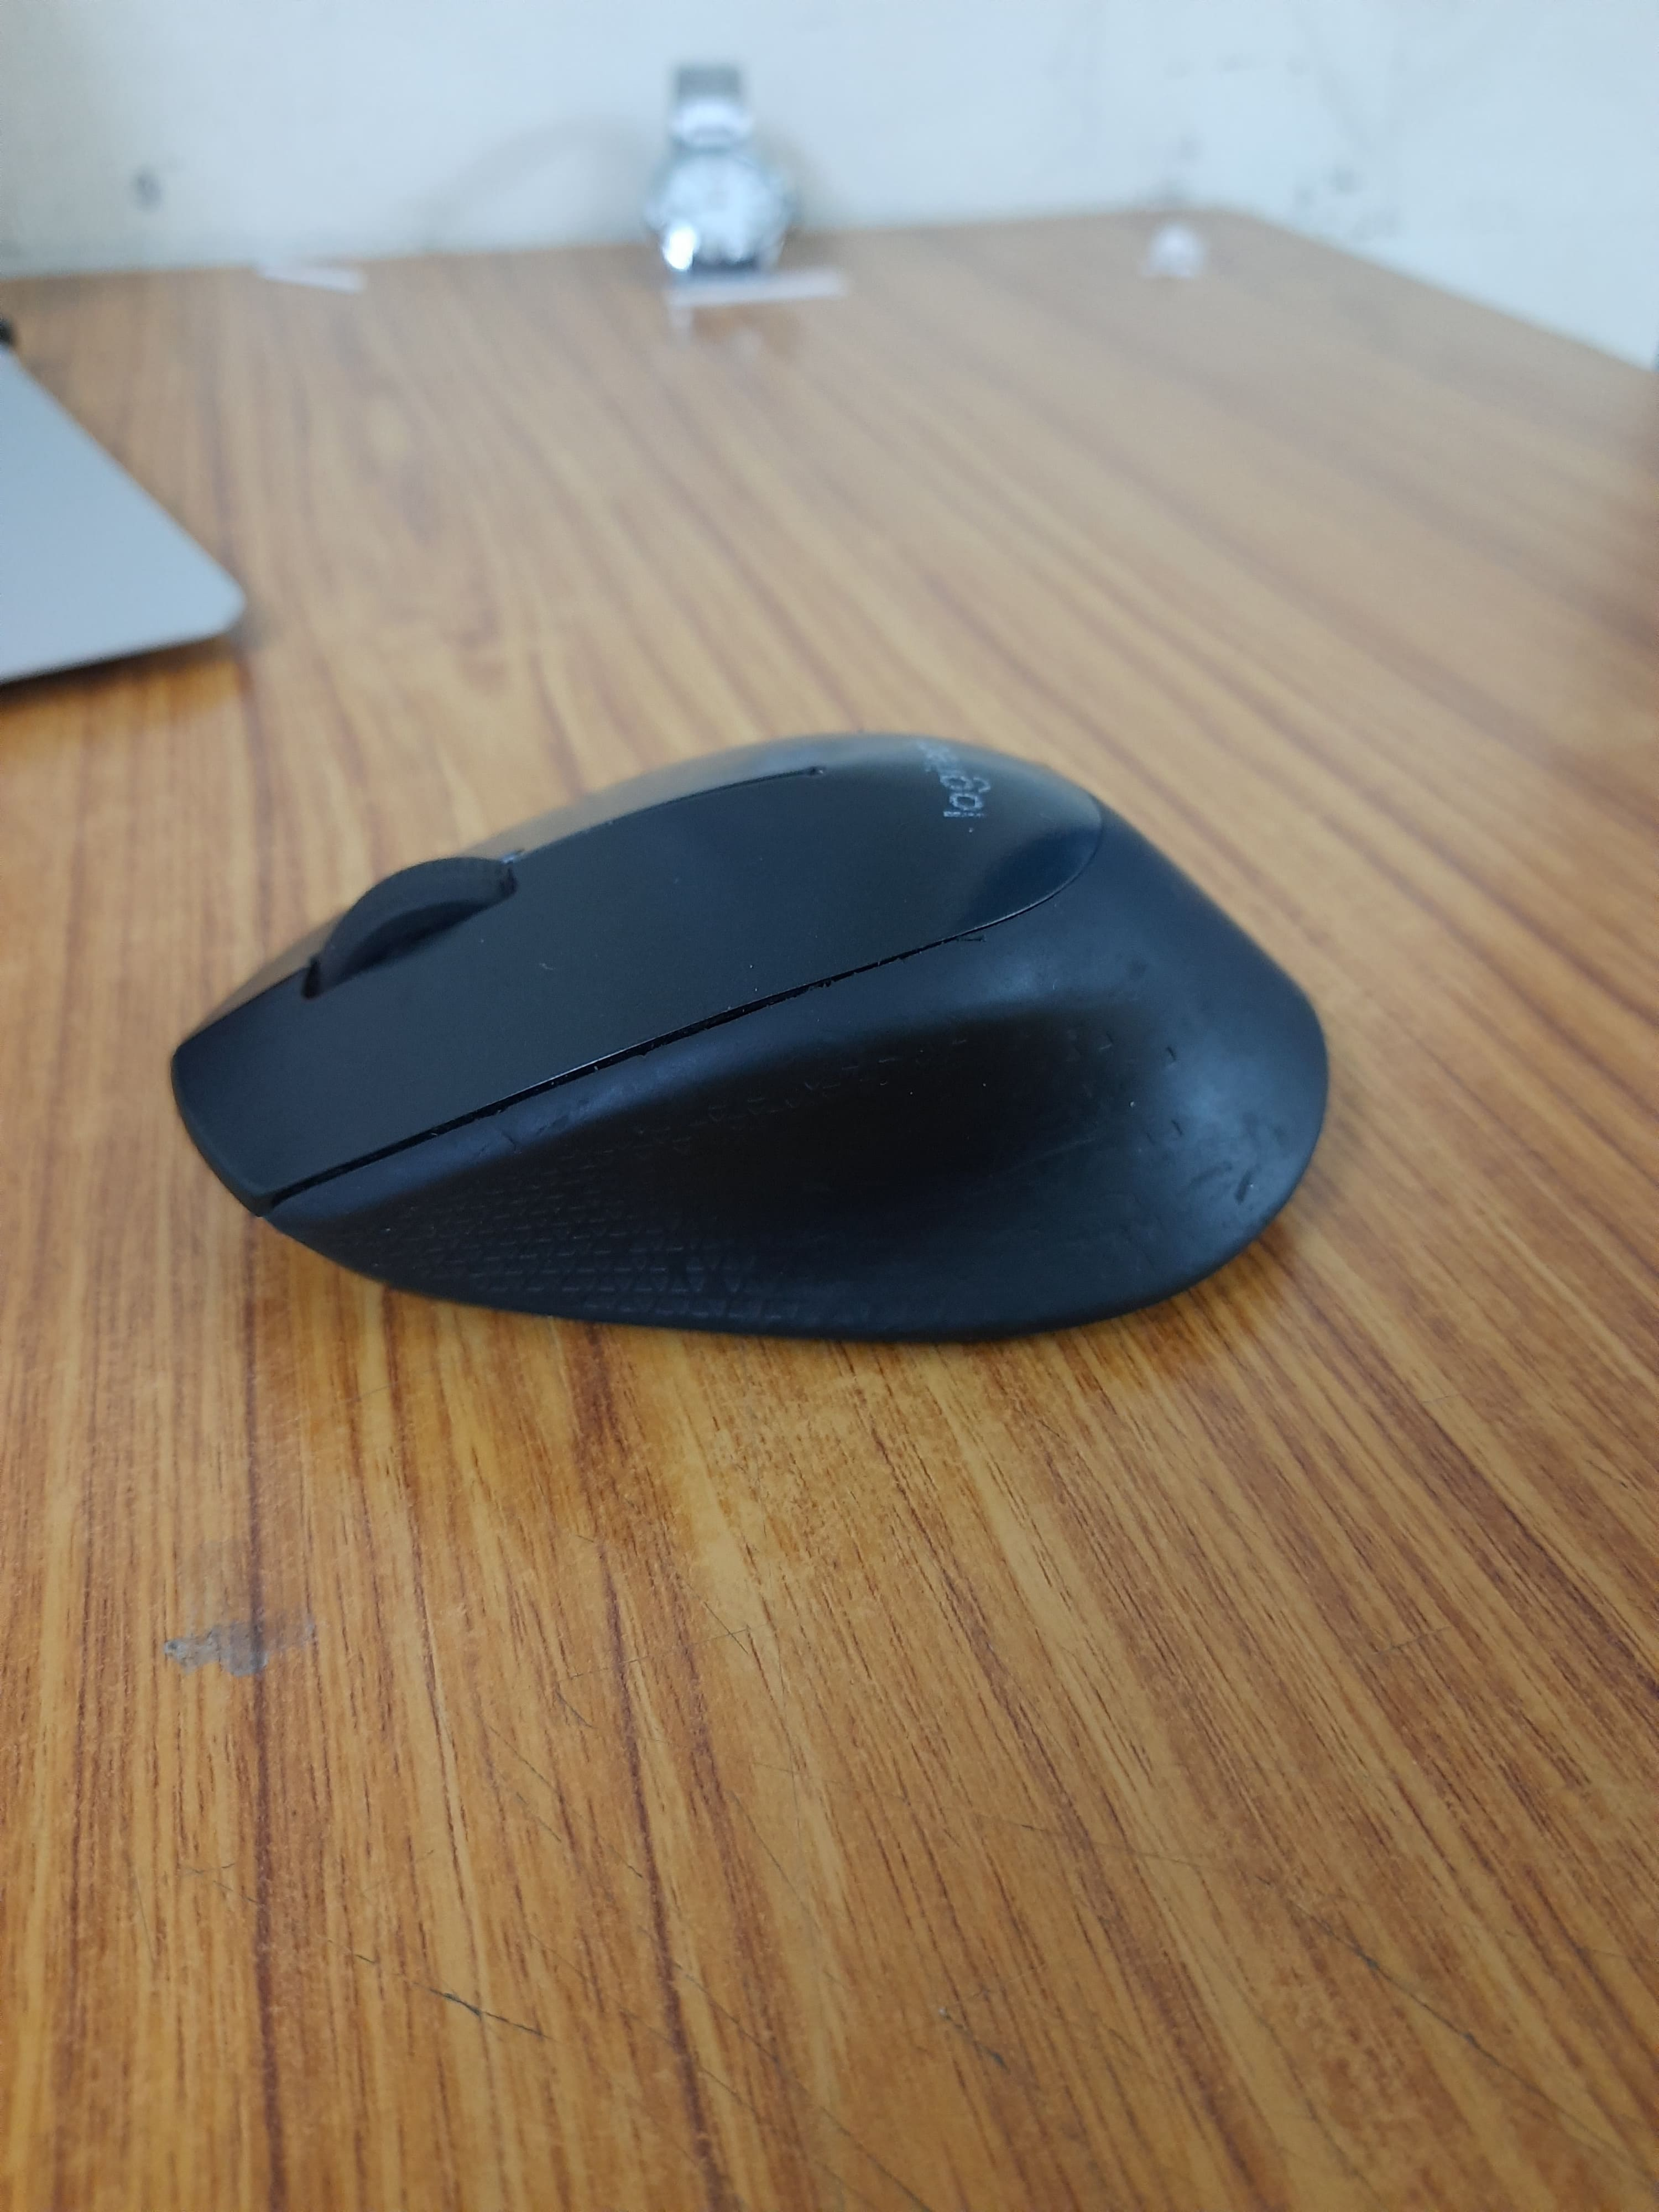Vikash's Mouse: (167, 728, 1331, 1350)
